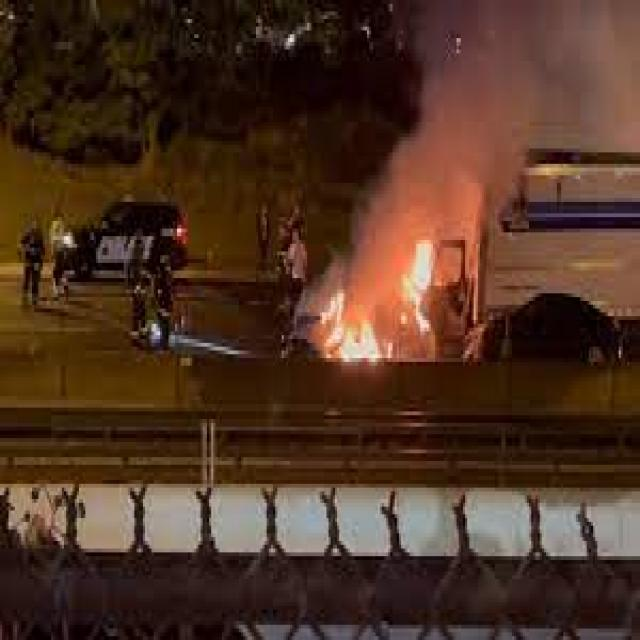fire: (318, 289, 382, 362), (399, 236, 437, 335)
smoke: (313, 4, 638, 289)
